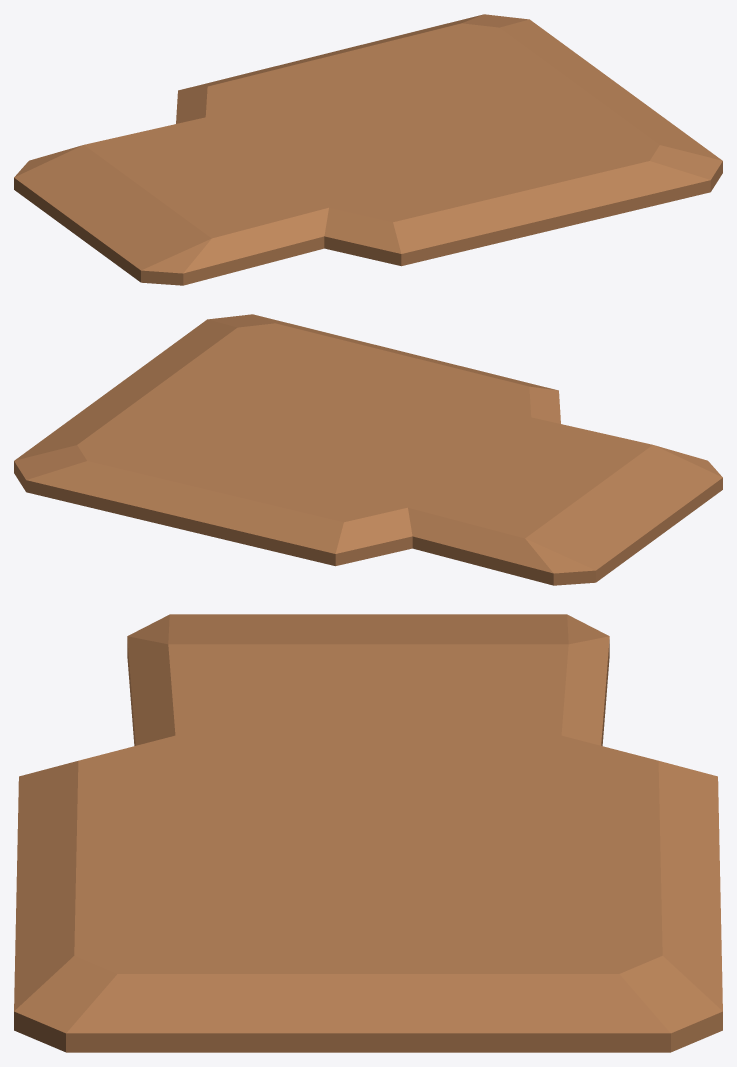
Rendered from SM_Roof_b_01.fbx.
The picture shows the model from 3 angles, top to bottom: view 1: azimuth 30°, elevation 25°; view 2: azimuth 150°, elevation 25°; view 3: azimuth 270°, elevation 25°; orthographic projection. The views are drawn at different scales.
Parts seen in each view (by area): view 1: SM_Roof_b_01; view 2: SM_Roof_b_01; view 3: SM_Roof_b_01.
Boxes of the visible parts, bbox=[...] form: SM_Roof_b_01: bbox=[14, 14, 722, 285]; SM_Roof_b_01: bbox=[14, 314, 722, 585]; SM_Roof_b_01: bbox=[14, 614, 722, 1052].
Size of the model in its own units: 13.66 by 0.6523 by 9.77.
